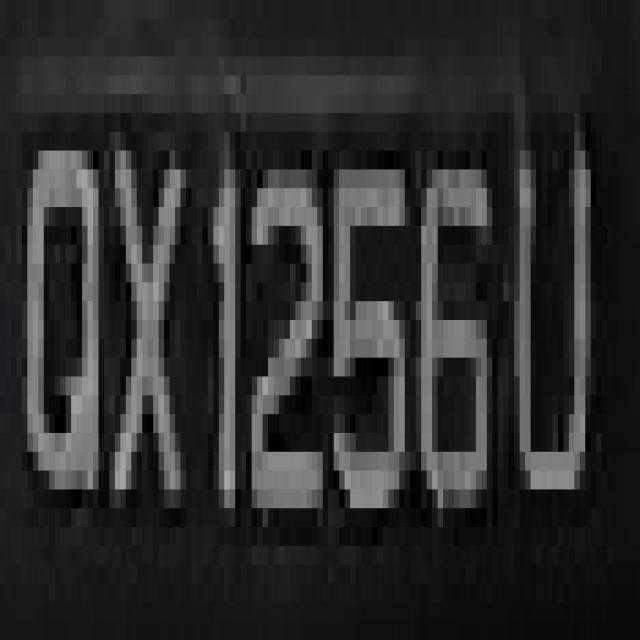1: (208, 94, 246, 546)
2: (235, 132, 328, 546)
5: (322, 94, 416, 546)
6: (405, 94, 498, 565)
Q: (0, 57, 104, 564)
U: (498, 94, 602, 527)
X: (104, 57, 191, 602)
